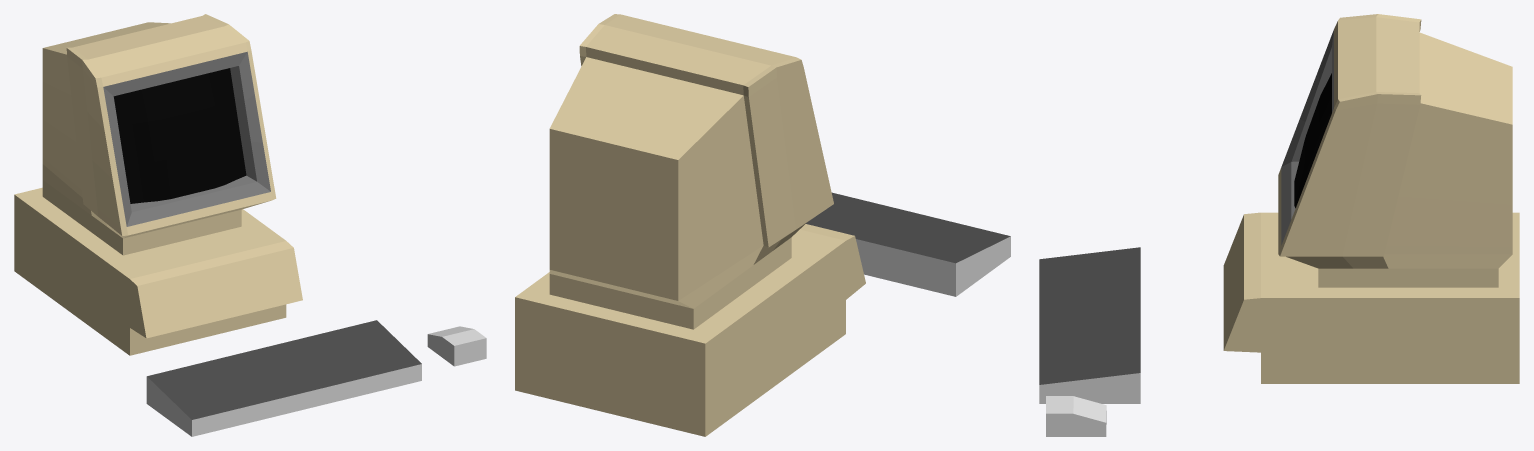
Rendered from comp.fbx.
3 renders of one model, left to right at view 1: azimuth 30°, elevation 25°; view 2: azimuth 150°, elevation 25°; view 3: azimuth 270°, elevation 25°, orthographic. The views are drawn at different scales.
Parts seen in each view (by area): view 1: Cube, Cube.001, Cube.002; view 2: Cube, Cube.001; view 3: Cube, Cube.001, Cube.002.
Part boxes in pixels (<box>): Cube: <box>14,14,302,355</box>; Cube.001: <box>146,320,421,436</box>; Cube.002: <box>427,326,486,366</box>; Cube: <box>515,14,865,436</box>; Cube.001: <box>806,192,1010,296</box>; Cube: <box>1223,14,1519,383</box>; Cube.001: <box>1039,247,1140,403</box>; Cube.002: <box>1046,396,1106,436</box>.
Size of the model in its own units: 761 by 626 by 949.
